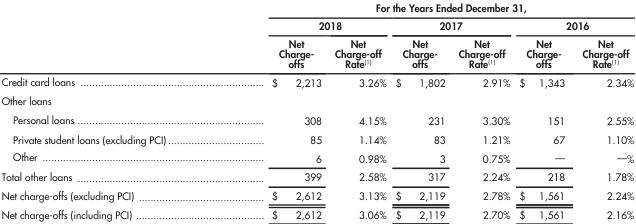table: (0, 0, 633, 221)
table column: (0, 0, 218, 221), (218, 0, 327, 221), (327, 0, 390, 221), (451, 0, 513, 221), (390, 0, 451, 221), (572, 0, 633, 221), (513, 0, 572, 221)
table column header: (0, 0, 633, 71)
table projected row header: (0, 90, 633, 109)
table row: (0, 33, 633, 71), (0, 109, 633, 129), (0, 147, 633, 167), (0, 71, 633, 90), (0, 90, 633, 109), (0, 167, 633, 186), (0, 186, 633, 205), (0, 129, 633, 147), (0, 16, 633, 33), (0, 0, 633, 16), (0, 205, 633, 221)
table spanning cell: (218, 0, 633, 16), (218, 16, 390, 33), (390, 16, 513, 33), (513, 16, 633, 33)
